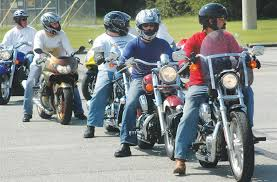helmet: (192, 2, 232, 31), (98, 8, 133, 37), (133, 7, 163, 37), (39, 11, 63, 35), (11, 6, 33, 32)
